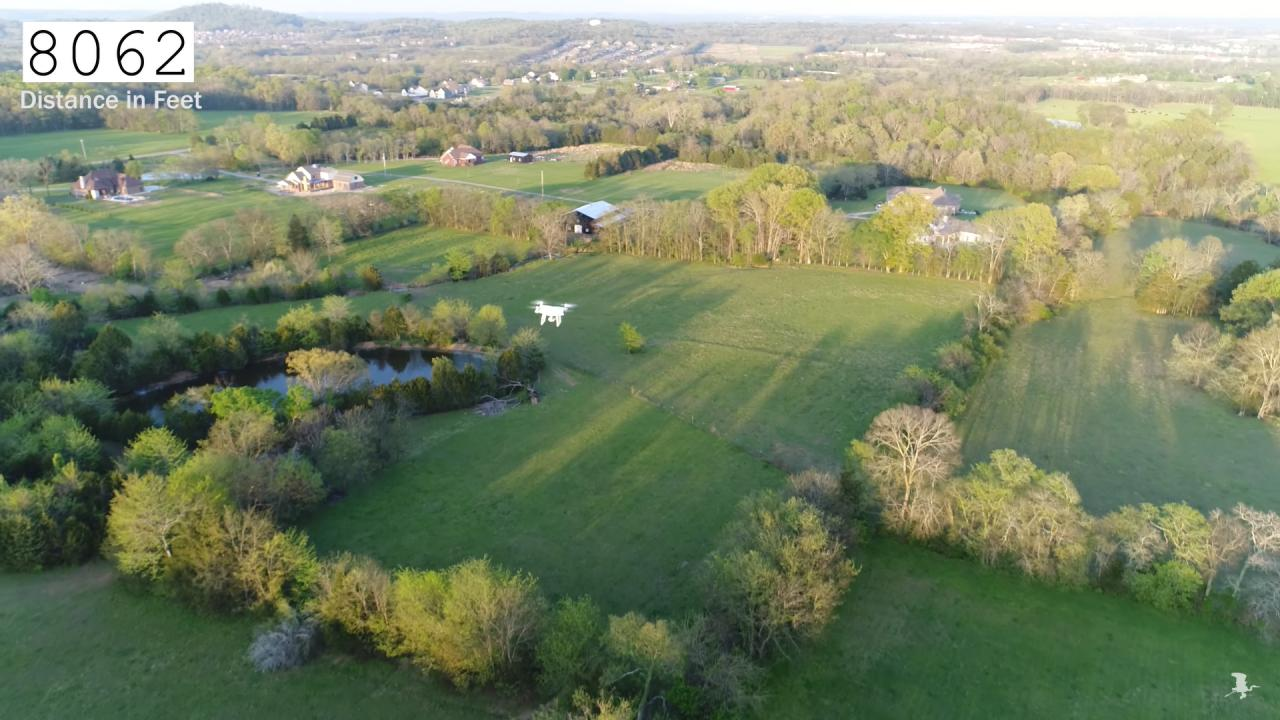Drone: (520, 287, 582, 339)
